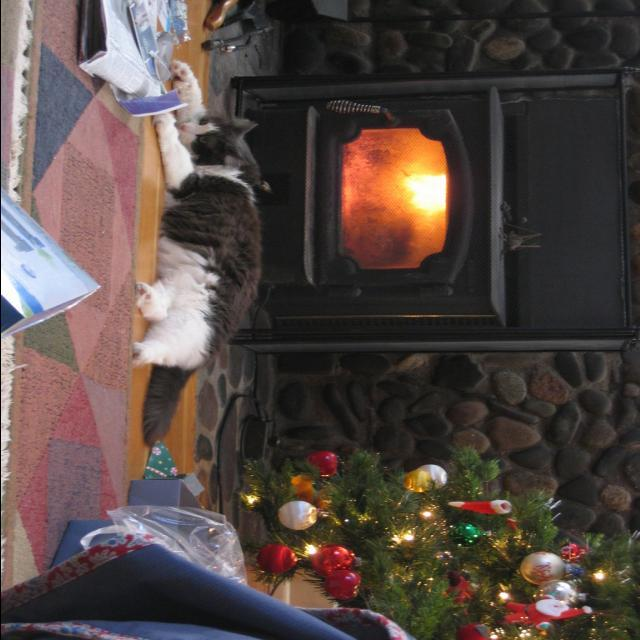Fire: (344, 134, 449, 264)
